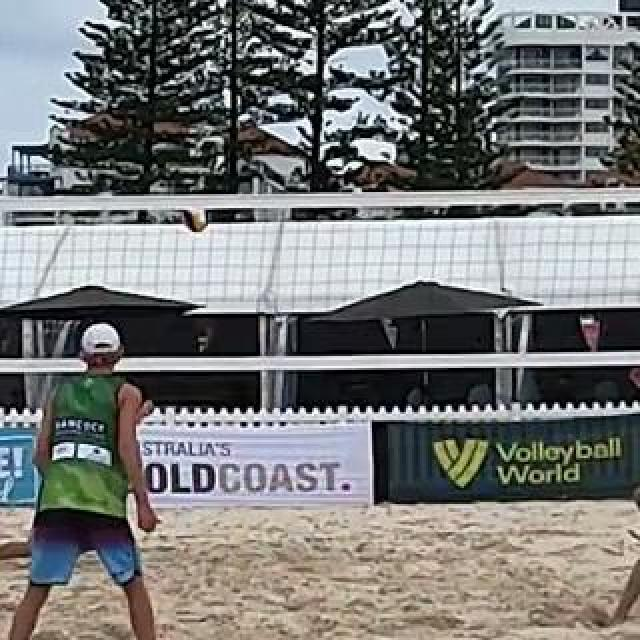volleyball: (183, 207, 207, 233)
